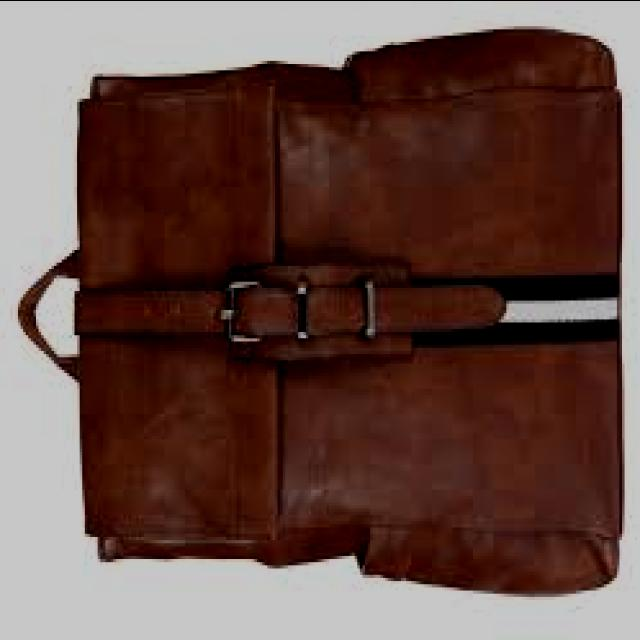backpack: (17, 30, 623, 600)
